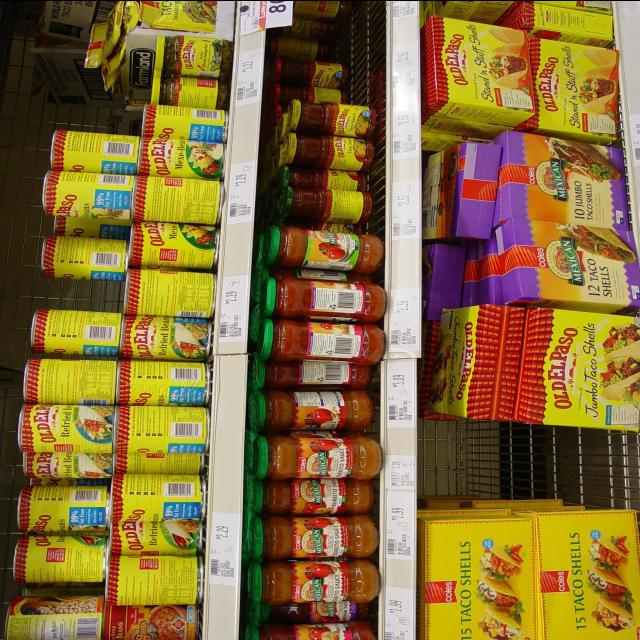empty_space: (430, 433, 630, 495), (283, 24, 377, 88)
